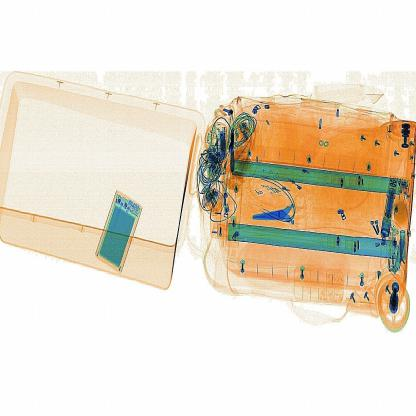gun: (249, 184, 318, 246)
